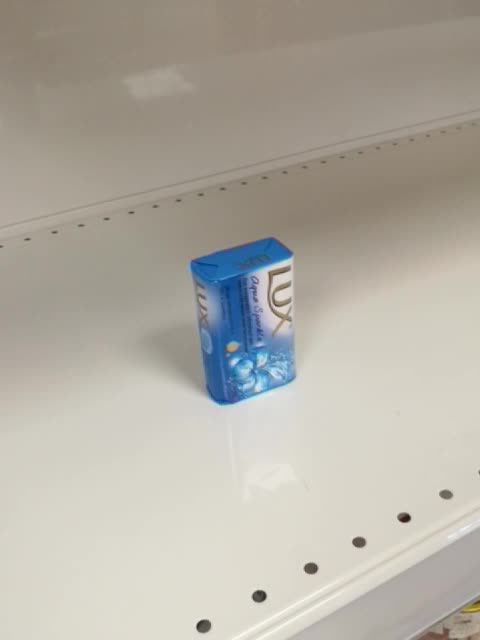soap: (187, 234, 299, 408)
